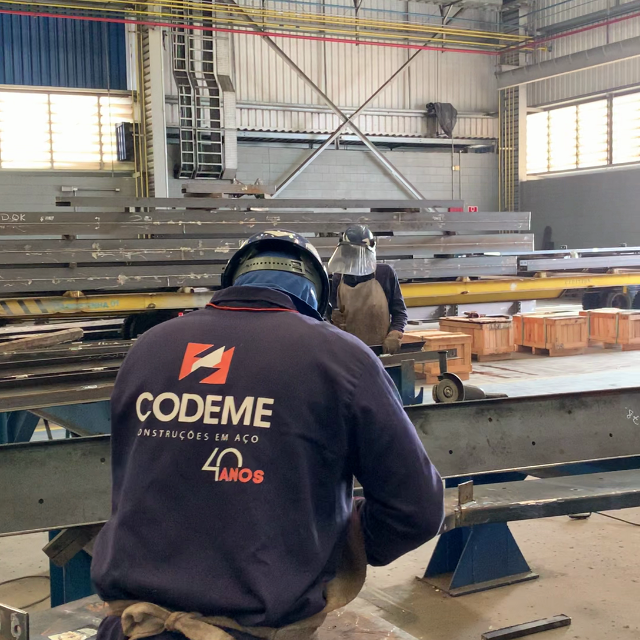face-shield: (324, 245, 378, 278)
helmet: (218, 230, 335, 318), (338, 223, 374, 247)
person: (88, 228, 447, 622), (325, 222, 410, 354)
